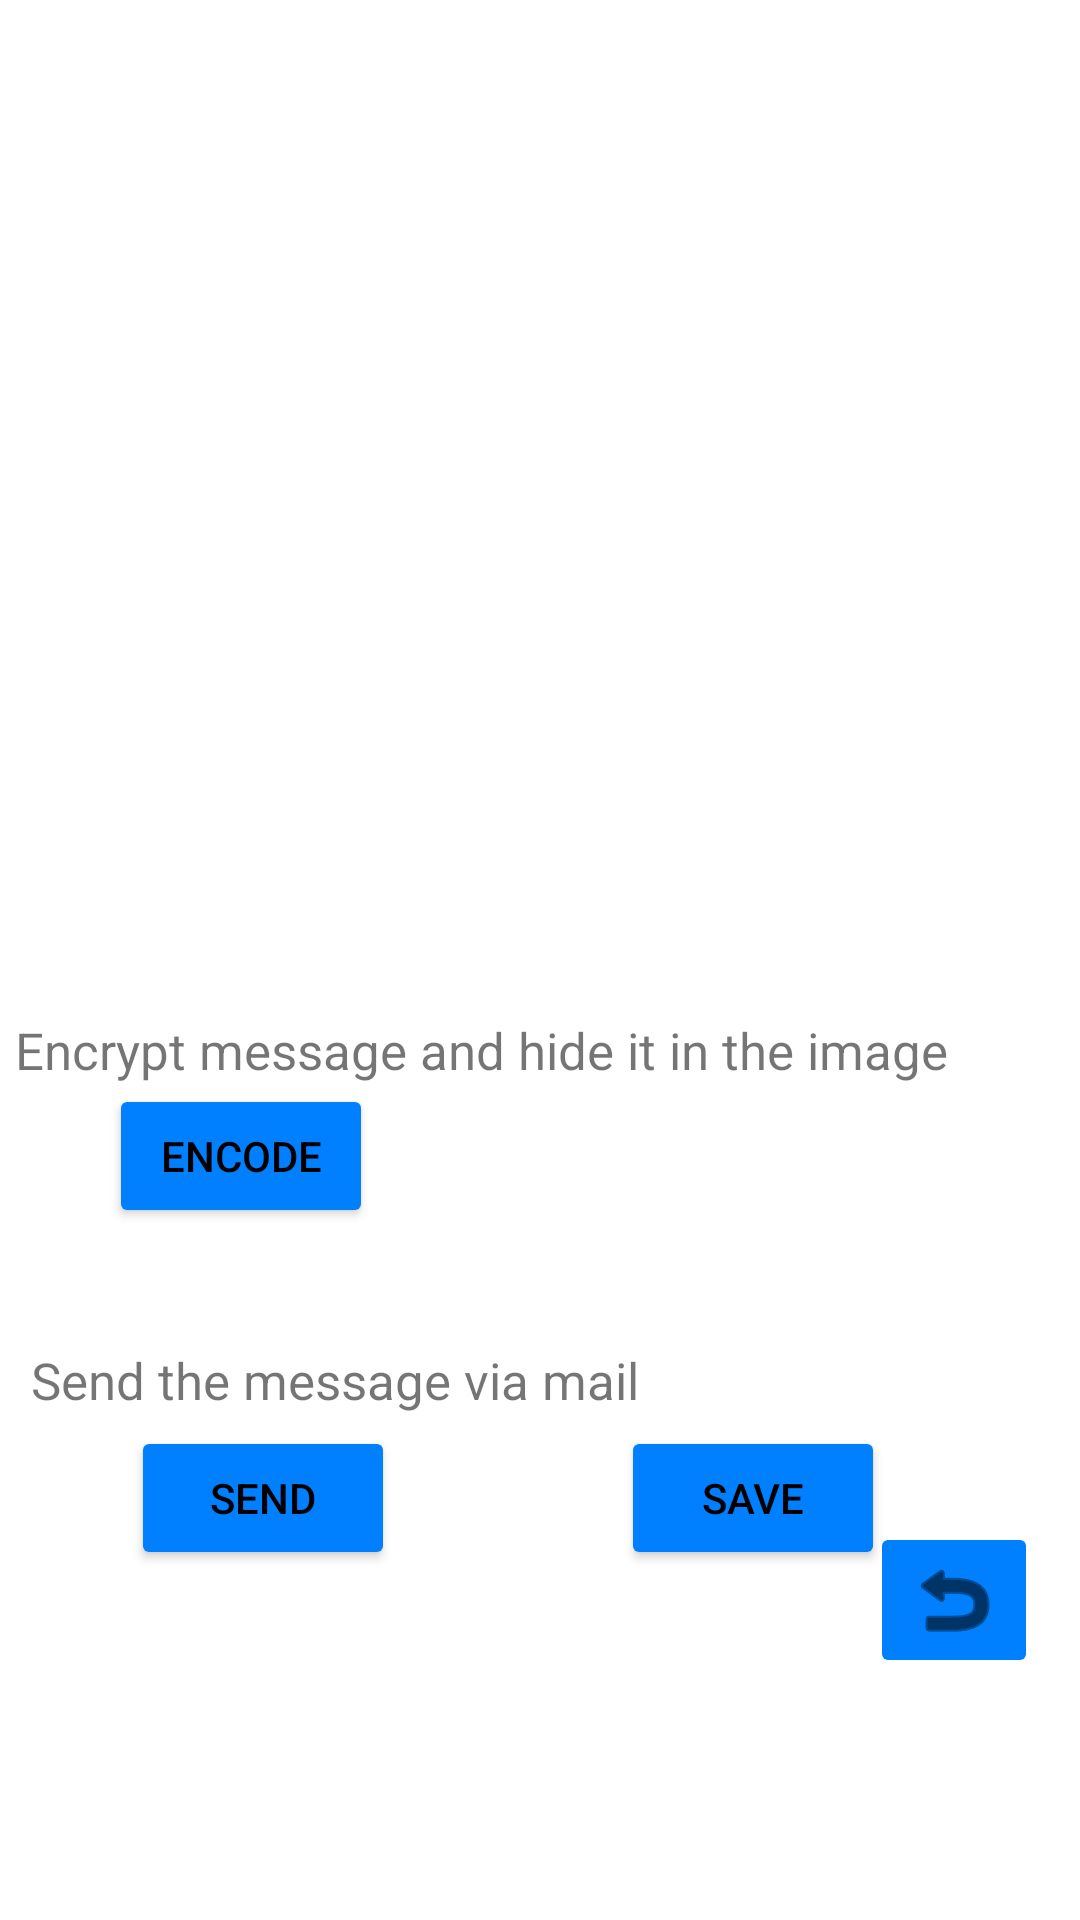

Where icons sit on this 1080x1920 app screen, as (x1, y1, x2, y2):
revert: (882, 1540, 1026, 1660)
